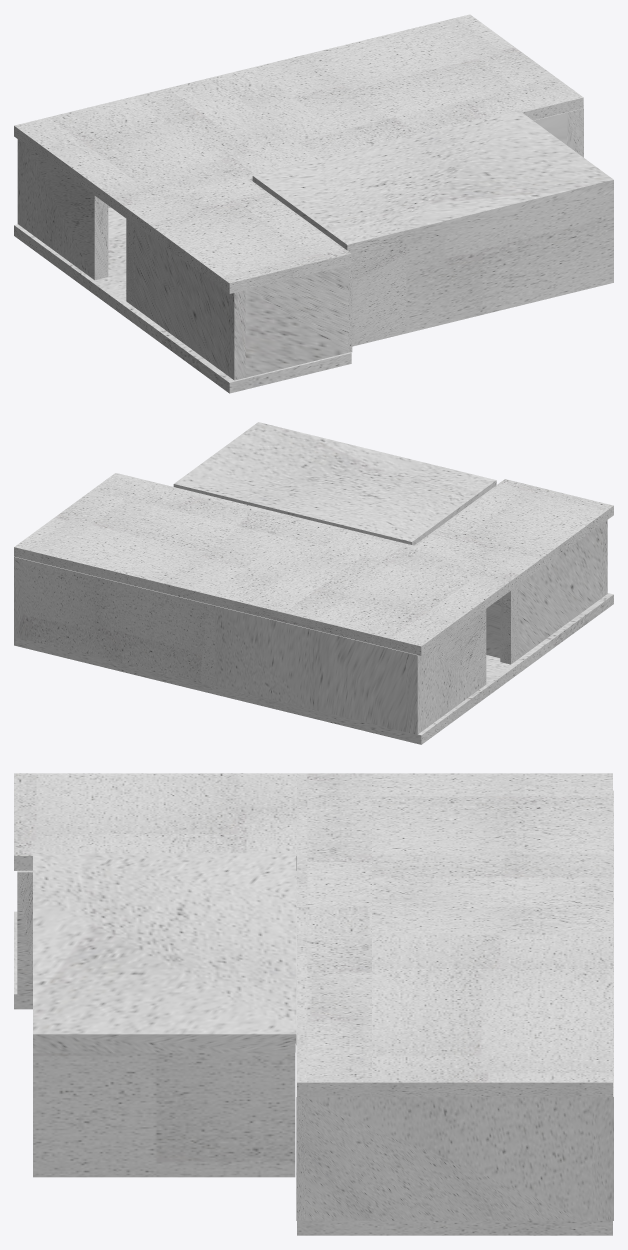
The model's file is lägab.obj.
3 views of the same model, one above another, from view 1: azimuth 30°, elevation 25°; view 2: azimuth 150°, elevation 25°; view 3: azimuth 270°, elevation 25° (orthographic). The views are drawn at different scales.
Parts seen in each view (by area): view 1: Cube; view 2: Cube; view 3: Cube.
Boxes of the visible parts, x1,y1,x2,y2 form: Cube: [14, 14, 613, 393]; Cube: [14, 422, 613, 744]; Cube: [14, 773, 613, 1235].
Size of the model in its own units: 11.12 by 2.64 by 9.12.
